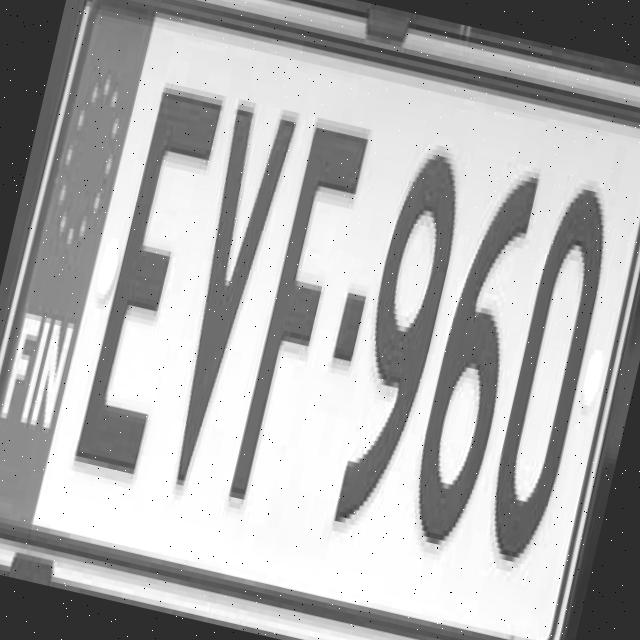EU: (0, 0, 640, 640)
Finlande: (0, 0, 155, 534)
